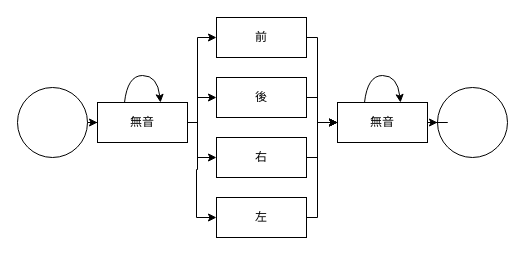
The diagram is 525 pixels wide and 255 high, and some of its shapes have lost their labels. Here are the shapes that lost their labels. From the top down, the centre of each, then its label:
At pixel 52 122: "start".
At pixel 472 122: "end".
